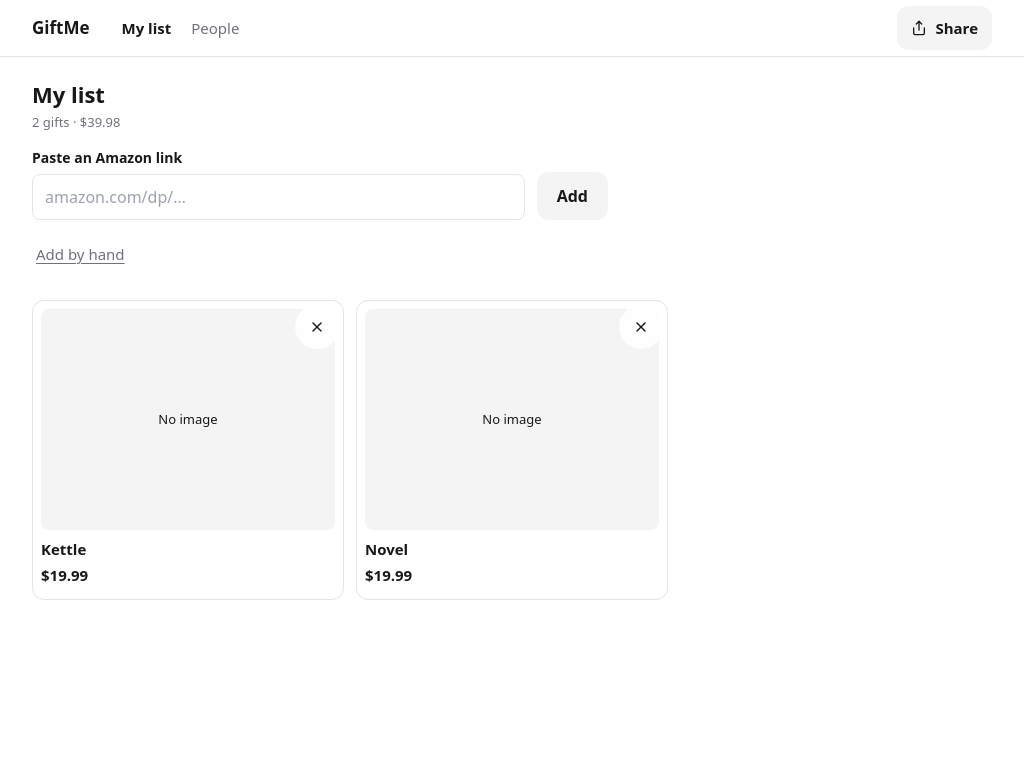
it: GiftApp › saves, announces it, and hides the save bar
Click the button named "Remove Novel" at (641, 327), box x1=619 y1=305 x2=663 y2=349
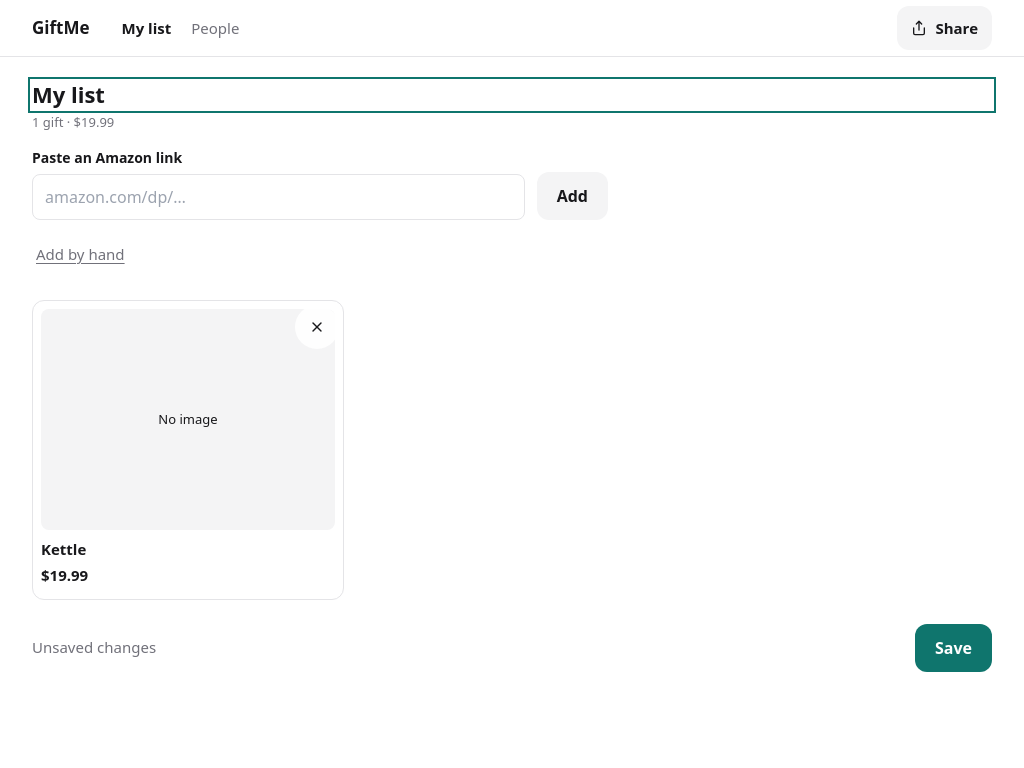
Click the button "Save" at (954, 648), box x1=915 y1=624 x2=992 y2=672
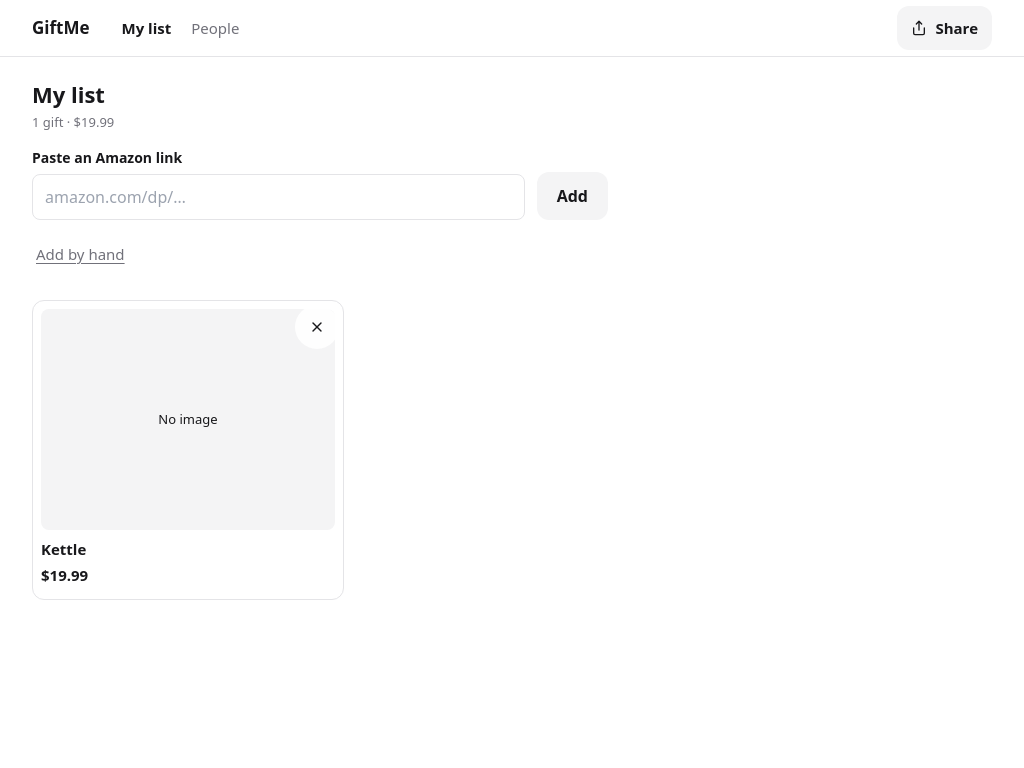
Expected: the text "Unsaved changes" is gone
